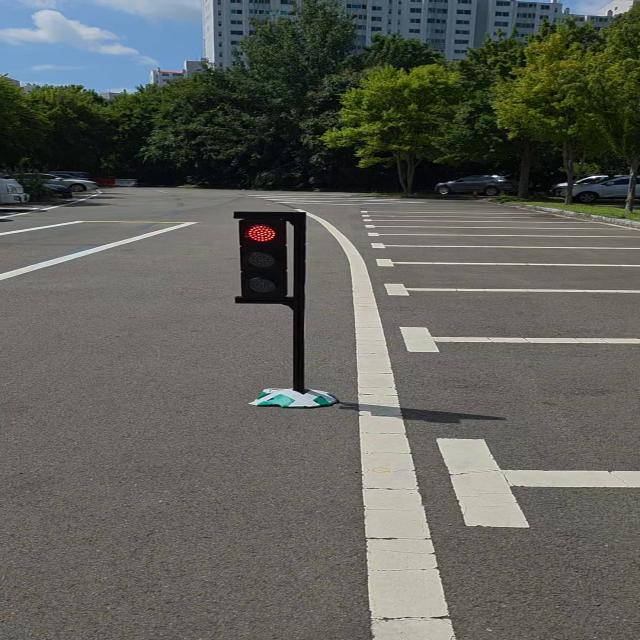red: (231, 212, 307, 308)
